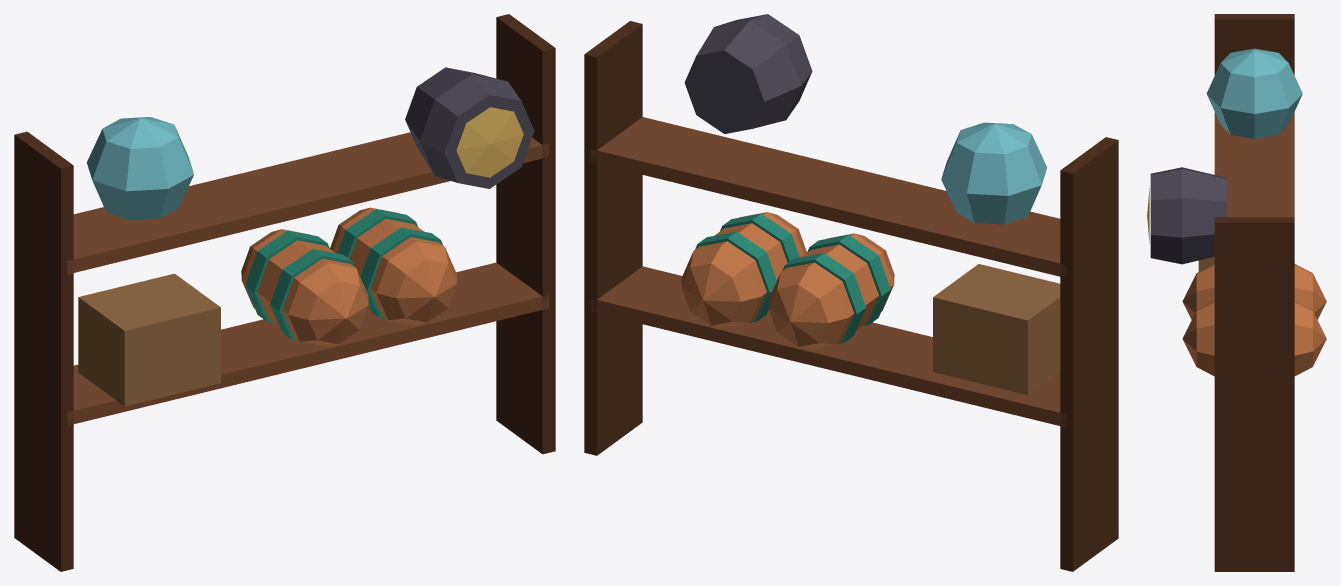
File: parts_rack.gltf
3 renders of one model, left to right at view 1: azimuth 30°, elevation 25°; view 2: azimuth 150°, elevation 25°; view 3: azimuth 270°, elevation 25°, orthographic. The views are drawn at different scales.
Visible parts, largest first — view 1: posts, pods, frame.2, crate, frame, thrusters, lens; view 2: posts, frame.2, pods, frame, crate, thrusters, lens; view 3: posts, lens, thrusters, frame.2, pods.
Boxes of the visible parts, left/top/right/bottom form: posts: left=14, top=14, right=555, bottom=571; pods: left=241, top=207, right=456, bottom=346; frame.2: left=67, top=132, right=548, bottom=274; crate: left=78, top=273, right=220, bottom=406; frame: left=67, top=262, right=548, bottom=425; thrusters: left=405, top=67, right=534, bottom=188; lens: left=86, top=117, right=193, bottom=220; posts: left=584, top=21, right=1118, bottom=571; frame.2: left=590, top=117, right=1066, bottom=277; pods: left=681, top=212, right=894, bottom=349; frame: left=590, top=266, right=1066, bottom=427; crate: left=933, top=264, right=1060, bottom=394; thrusters: left=684, top=14, right=812, bottom=133; lens: left=941, top=122, right=1047, bottom=224; posts: left=1214, top=14, right=1294, bottom=571; lens: left=1206, top=48, right=1302, bottom=138; thrusters: left=1147, top=167, right=1226, bottom=264; frame.2: left=1214, top=112, right=1294, bottom=217; pods: left=1182, top=264, right=1326, bottom=376.
Bounding box in the file's own units: 3.08 × 2.47 × 1.12.
